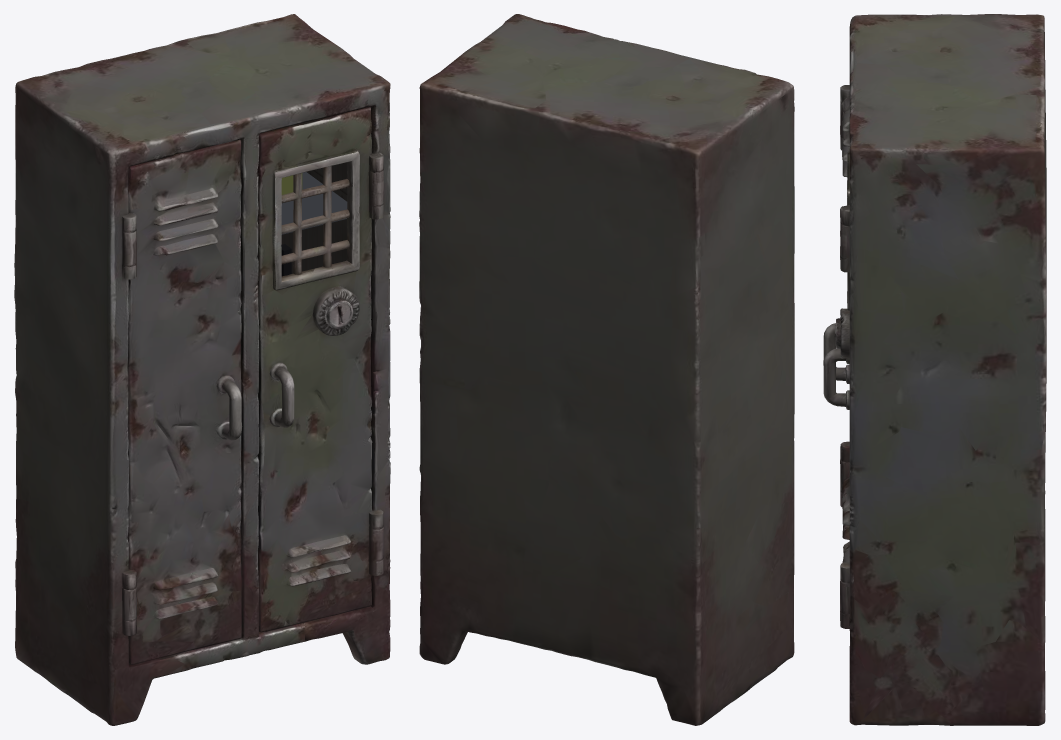
File: prison_armory_locker.glb
3 views of the same model, side by side, from view 1: azimuth 30°, elevation 25°; view 2: azimuth 150°, elevation 25°; view 3: azimuth 270°, elevation 25° (orthographic).
Parts seen in each view (by area): view 1: body, door_l, door_r; view 2: body; view 3: body, door_l, door_r.
Boxes of the visible parts, bbox=[...] form: body: bbox=[14, 14, 390, 725]; door_l: bbox=[127, 137, 251, 664]; door_r: bbox=[251, 106, 379, 634]; body: bbox=[419, 14, 794, 725]; body: bbox=[840, 14, 1046, 725]; door_l: bbox=[823, 87, 849, 539]; door_r: bbox=[823, 151, 849, 620].
Bounding box in the file's own units: 0.9771 × 1.9 × 0.6673.
8 materials, 3 textured.
